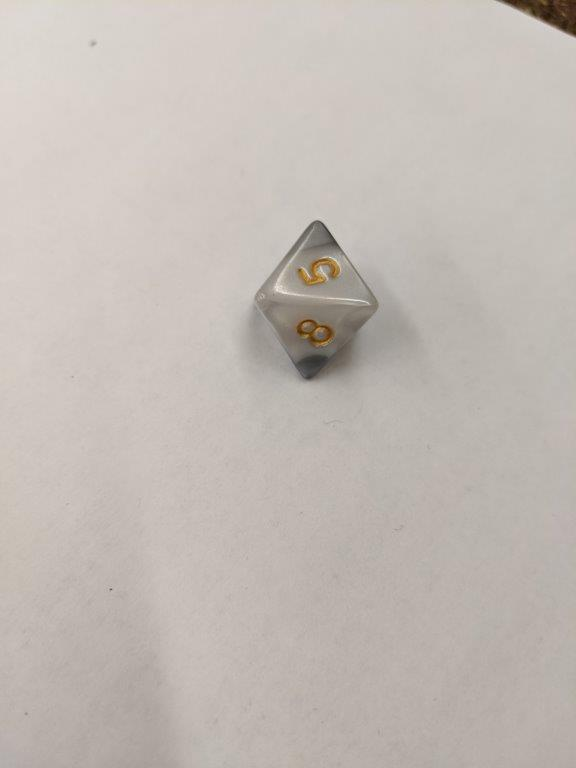d8-5: (252, 218, 379, 384)
